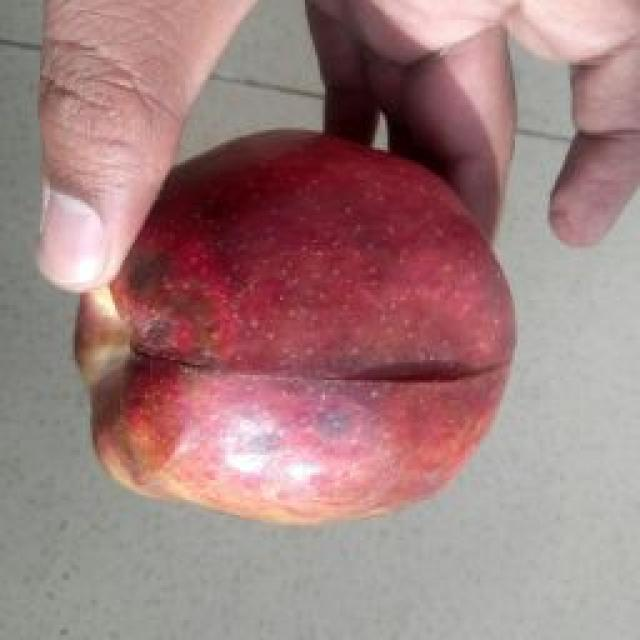Bad_Apple: (76, 131, 515, 522)
